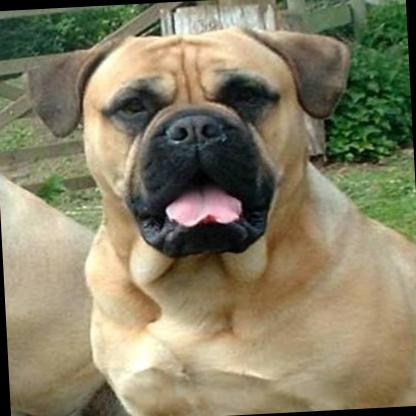bull_mastiff: (18, 17, 416, 416)
